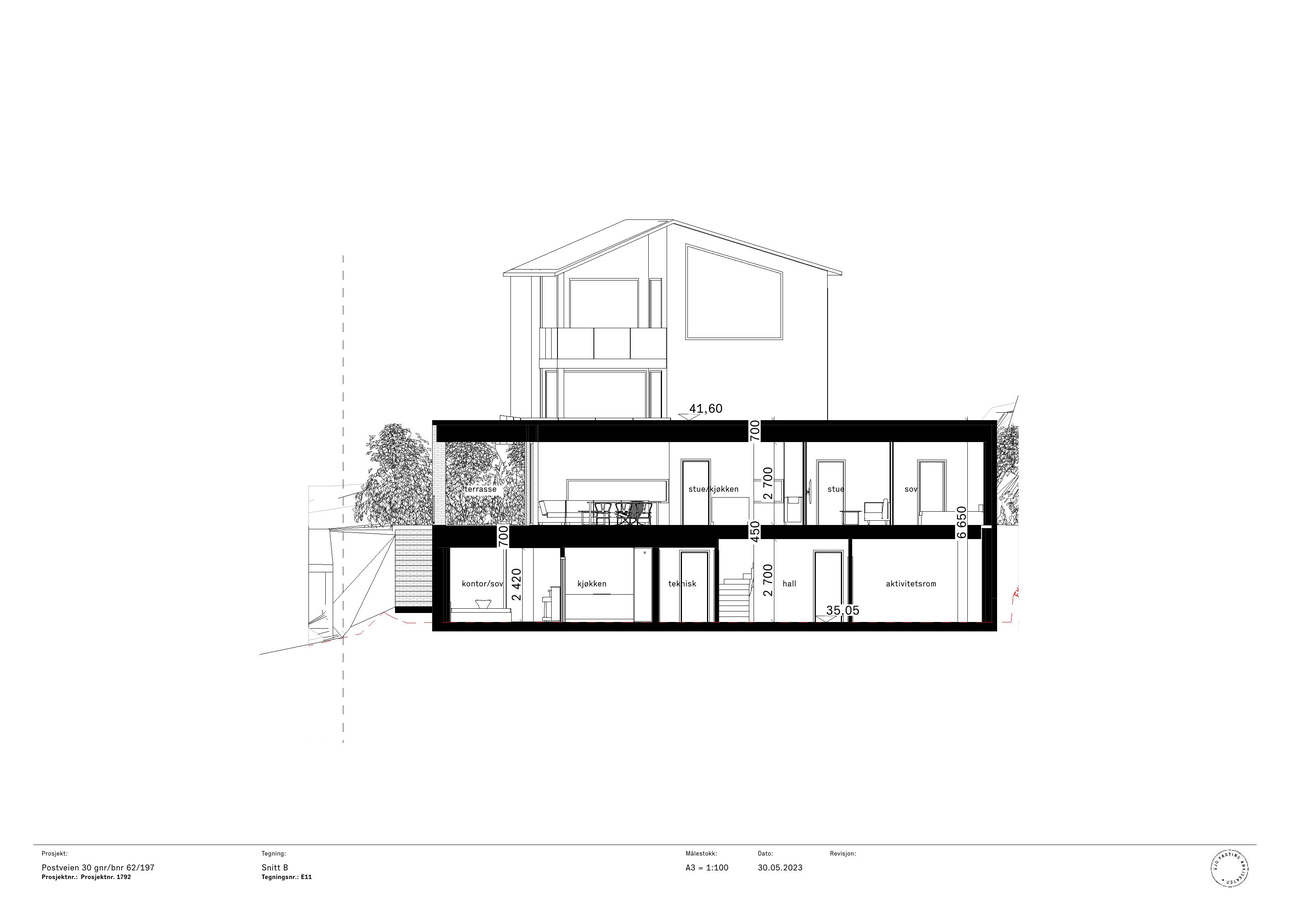snitt: (392, 413, 1005, 638)
